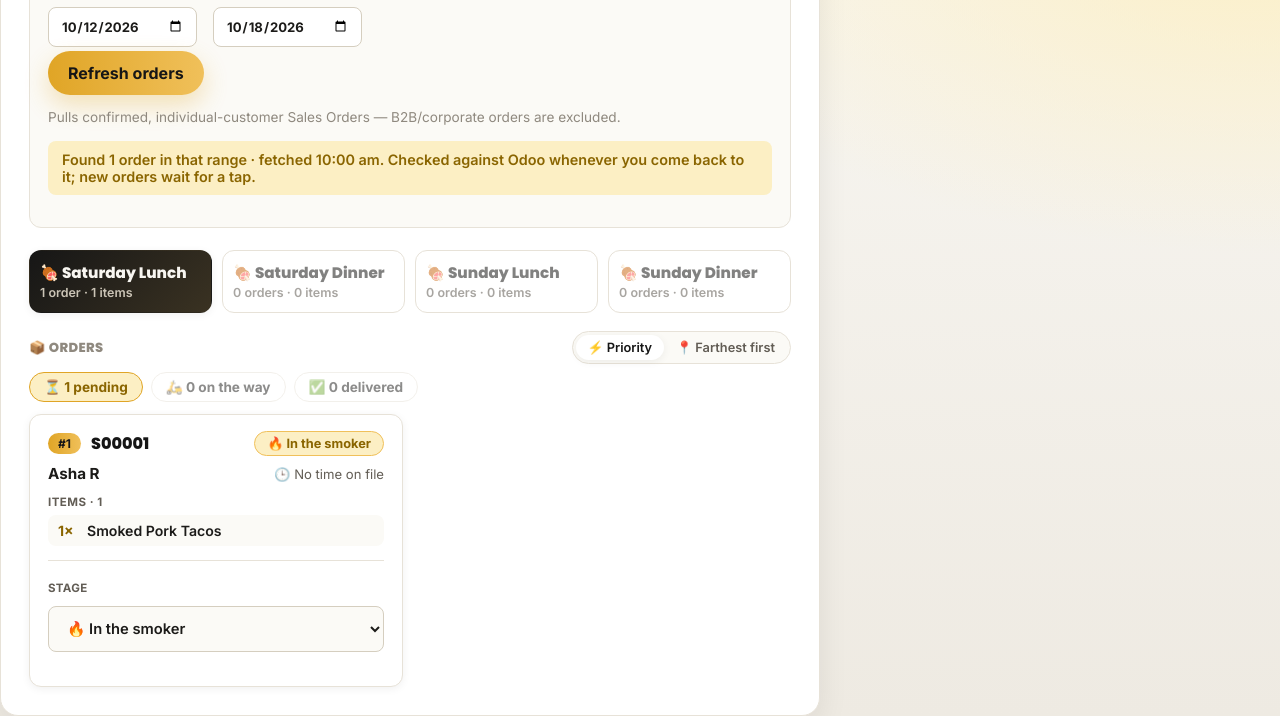
Test: a stage set here is still on the dropdown after the minute refresh
This screenshot has width=1280, height=716.
(page scrolled)
Expected: the button with class "slot-picker-btn" that starts with "Saturday Lunch" is shown, 29,250 -> 212,313
Select "📦 Packed" in the dropdown labelled "Stage" at (216, 629), box 48,606 -> 384,652
Wait 60000 ms
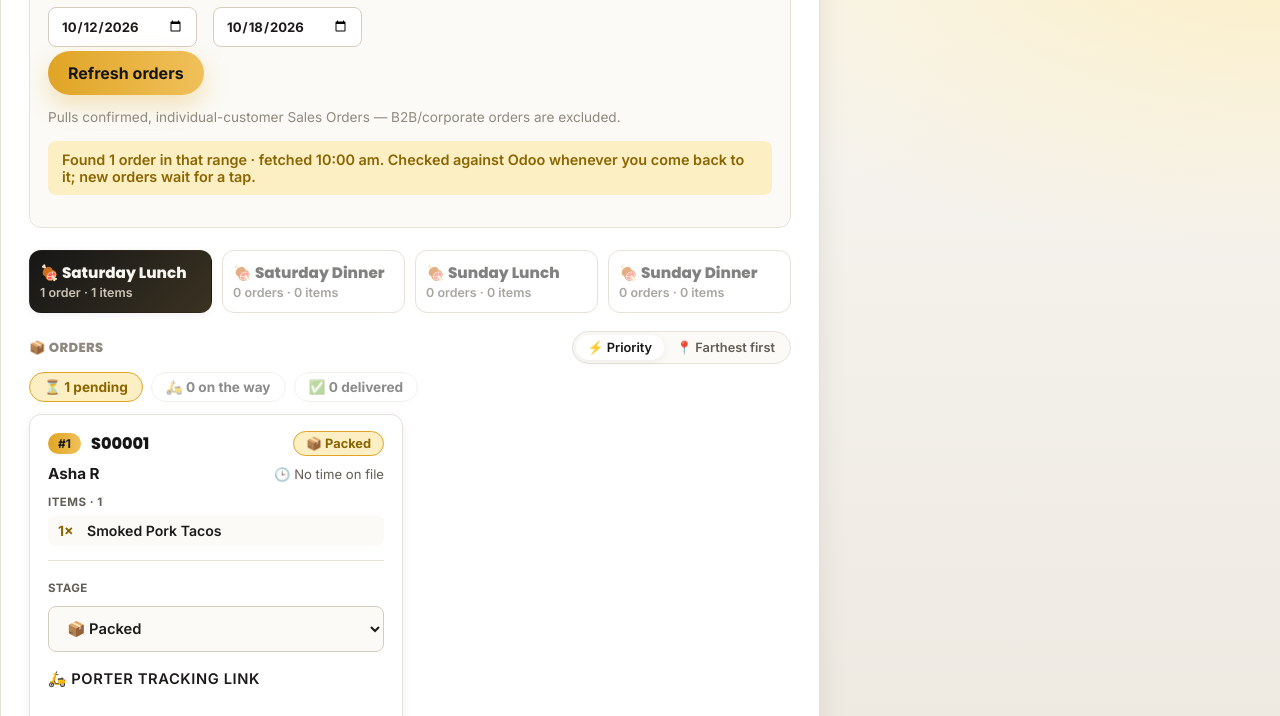
Now the text "📦 Packed" is shown, box 293,431 -> 384,456
